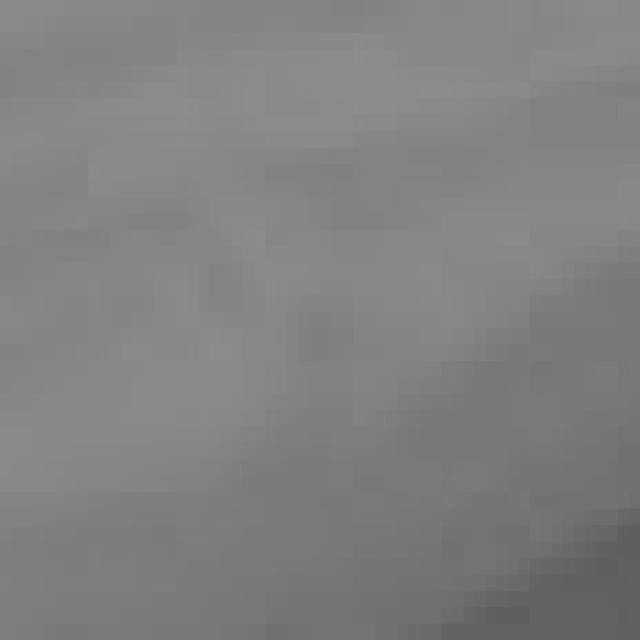fracture: (5, 10, 640, 640)
